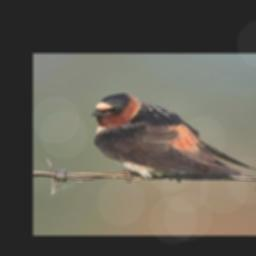Swallow: (89, 91, 256, 182)
